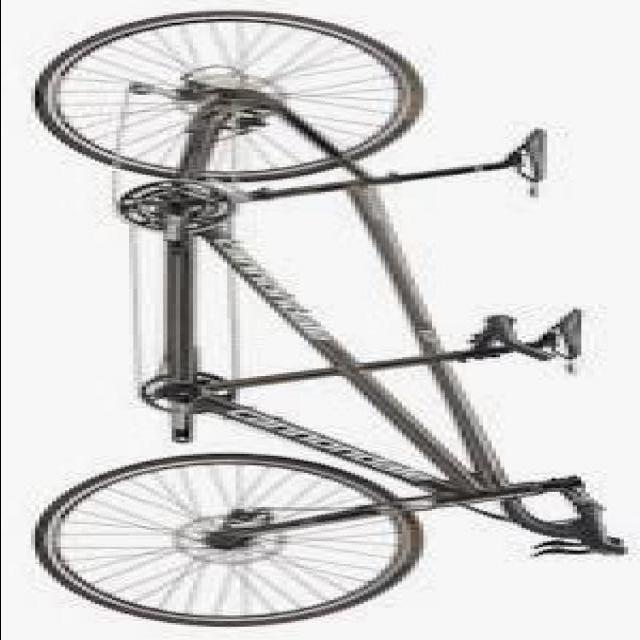bicycle: (100, 26, 586, 628)
